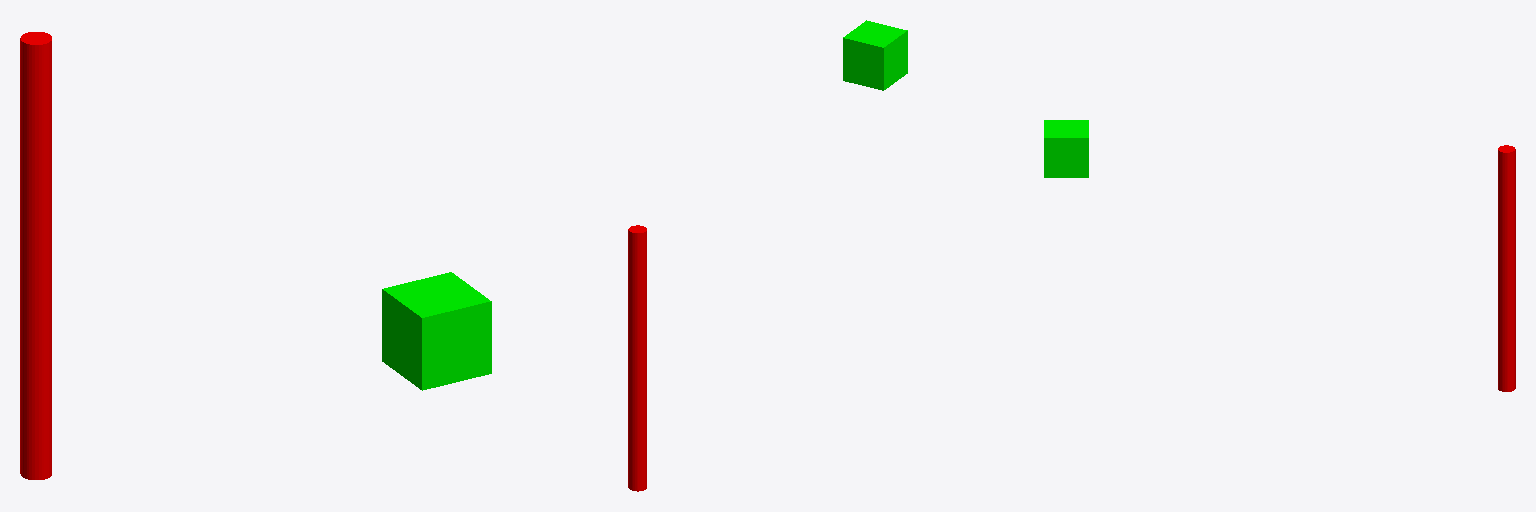
robot.urdf — Acrobot:
<?xml version="1.0"?>
<robot xmlns="https://drake.mit.edu" xmlns:xsi="http://www.w3.org/2001/XMLSchema-instance" name="Acrobot">
  <link name="world" />
  <link name="base_link">
    <visual>
      <geometry>
        <box size="0.05 0.05 0.05"/>
      </geometry>
      <material name="green">
        <color rgba="0 1 0 1"/>
      </material>
    </visual>
  </link>
  <link name="upper_link">
    <inertial>
      <origin xyz="0 0 -.5" rpy="0 0 0"/>
      <mass value="0.58"/>
      <inertia ixx="1" ixy="0" ixz="0" iyy="0.145" iyz="0" izz="1"/>
    </inertial>
    <visual>
      <origin xyz="0 0 -0.15" rpy="0 0 0"/>
      <geometry>
        <cylinder length="0.3" radius="0.01"/>
      </geometry>
      <material name="red">
        <color rgba="1 0 0 1"/>
      </material>
    </visual>
  </link>
  <joint name="base_weld" type="fixed">
    <parent link="world"/>
    <child link="base_link"/>
  </joint>
  <joint name="shoulder" type="revolute">
    <parent link="base_link"/>
    <child link="upper_link"/>
    <origin xyz="0 0.5 0"/>
    <axis xyz="0 1 0"/>
    <limit effort="2" lower="-3.1416" upper="3.1416" velocity="5"/>
    <dynamics damping="0.1"/>
  </joint>
  <transmission type="SimpleTransmission" name="elbow_trans">
    <actuator name="elbow"/>
    <joint name="elbow"/>
    <mechanicalReduction>1</mechanicalReduction>
  </transmission>
  <frame name="hand" link="lower_link" xyz="0 0 -0.3" rpy="0 0 0"/>
</robot>

--- What the picture shows (computed from the rendered views, not written in the file) ---
Views: 3 orthographic renders of the robot side by side, from view 1: azimuth 30°, elevation 25°; view 2: azimuth 150°, elevation 25°; view 3: azimuth 270°, elevation 25°.
Robot: Acrobot — 3 links, 2 joints (1 revolute, 1 fixed); root link world; default pose: all joints at 0.
Visible links, largest first — view 1: upper_link, base_link; view 2: upper_link, base_link; view 3: upper_link, base_link.
Link boxes in pixels (box(x1,y1,x2,y2)): upper_link: box(20, 32, 51, 479); base_link: box(382, 272, 491, 390); upper_link: box(628, 225, 646, 491); base_link: box(843, 20, 907, 90); upper_link: box(1498, 145, 1515, 391); base_link: box(1044, 120, 1088, 177).
Bounding box of the posed robot: 0.05 × 0.535 × 0.325 m (x, y, z).
Geometry: primitives only (box / cylinder / sphere), no mesh files.